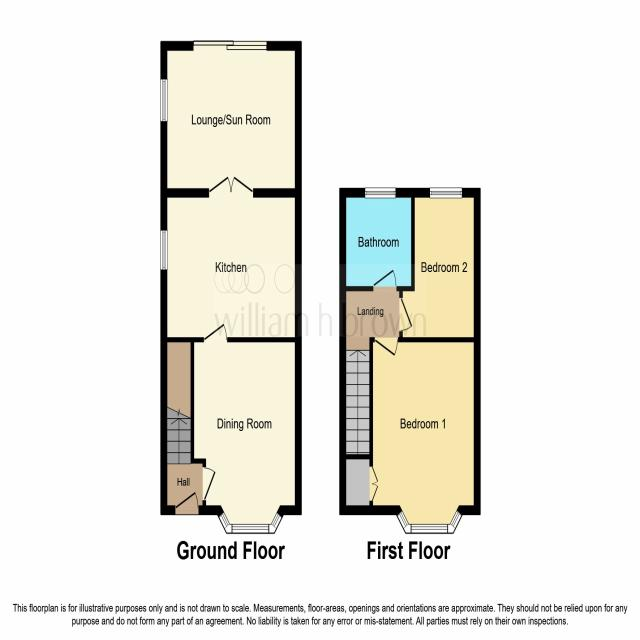DOOR: (201, 319, 230, 344), (371, 335, 400, 360), (202, 463, 219, 505), (371, 266, 399, 291), (399, 294, 414, 334)
DOUBLE DOOR: (204, 168, 256, 198)
ROOM: (339, 335, 481, 534), (190, 315, 302, 535), (398, 187, 481, 342)
SLIDING DOOR: (191, 35, 270, 54), (427, 184, 465, 201)
WINDOW: (394, 506, 464, 536), (214, 508, 285, 537), (158, 225, 171, 272), (363, 184, 398, 201), (159, 75, 170, 125)
